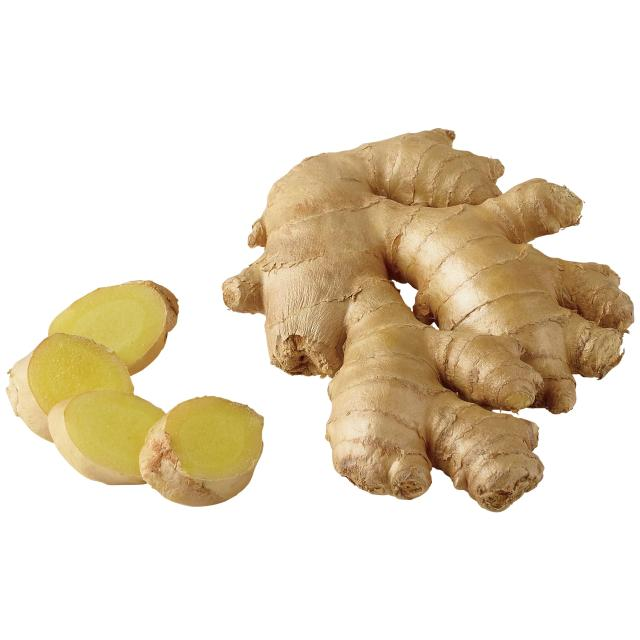ginger-root: (183, 69, 637, 576)
